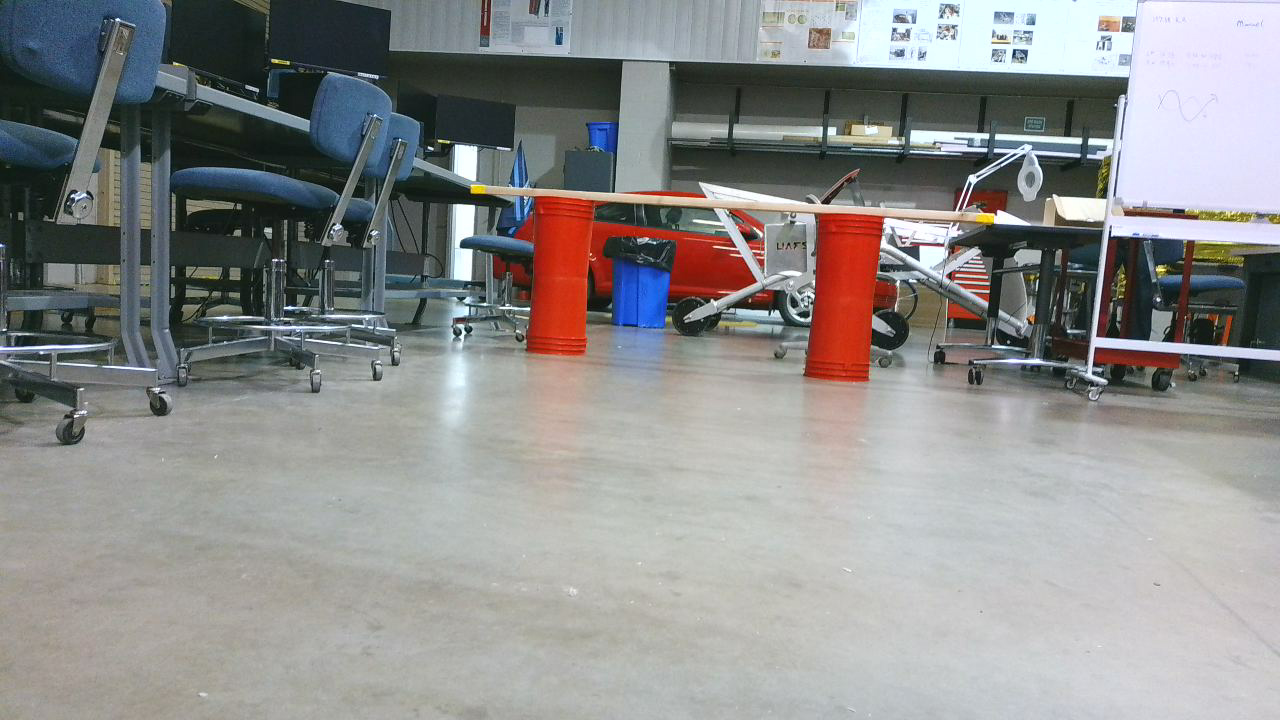red_bucket_arch: (532, 198, 890, 387)
